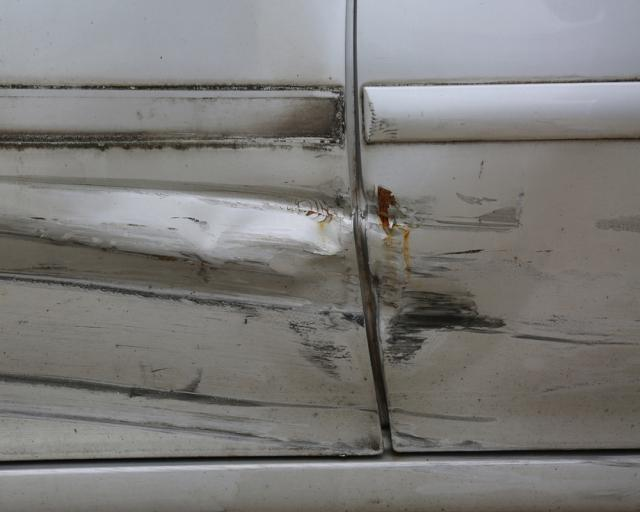scratch: (0, 163, 385, 461), (362, 178, 640, 453)
